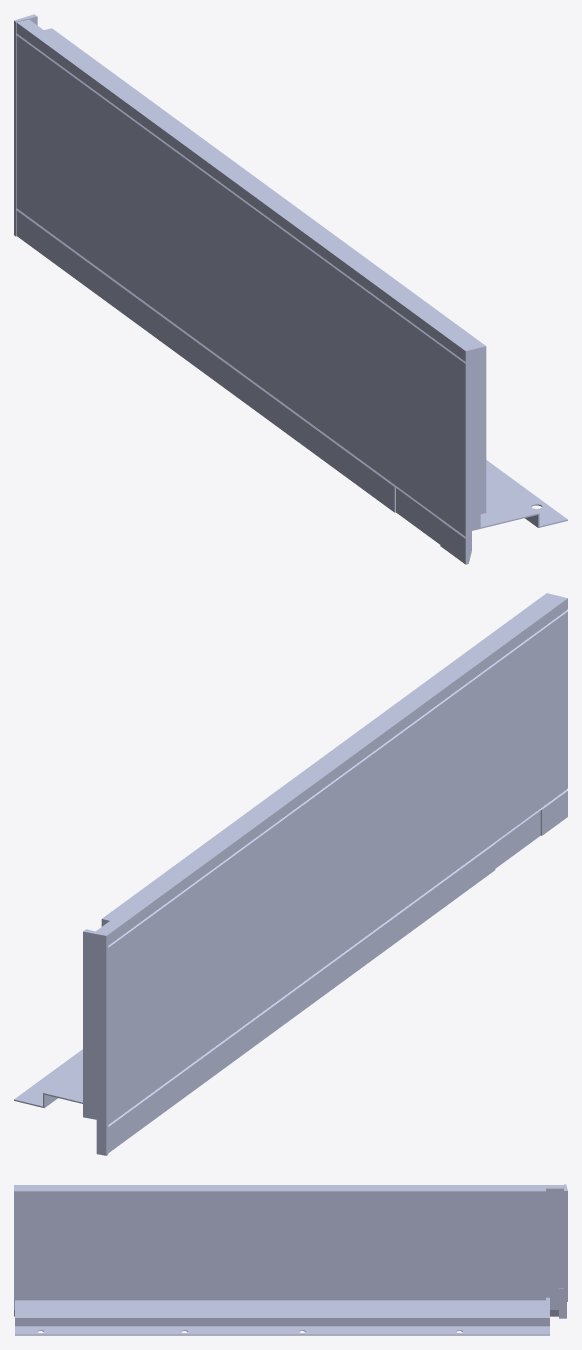
File: lg-kava-K500-p.glb
3 renders of one model, top to bottom at view 1: azimuth 30°, elevation 25°; view 2: azimuth 150°, elevation 25°; view 3: azimuth 270°, elevation 25°, orthographic. The views are drawn at different scales.
Parts seen in each view (by area): view 1: 46222882; view 2: 46222882; view 3: 46222882.
Boxes of the visible parts, x1,y1,x2,y2 form: 46222882: (14, 14, 567, 564); 46222882: (14, 593, 567, 1155); 46222882: (14, 1184, 567, 1335).
Size of the model in its own units: 0.0653 by 0.1292 by 0.4935.
